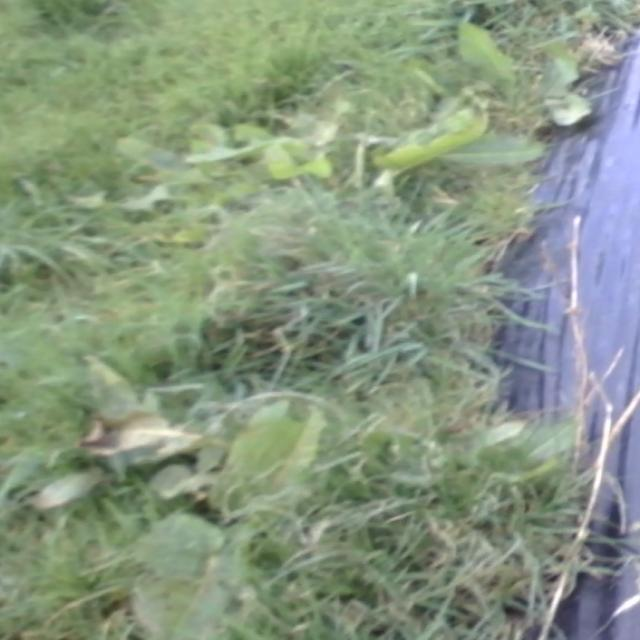organic waste: (86, 73, 572, 257), (116, 391, 344, 626), (32, 356, 238, 504), (452, 6, 593, 117)
